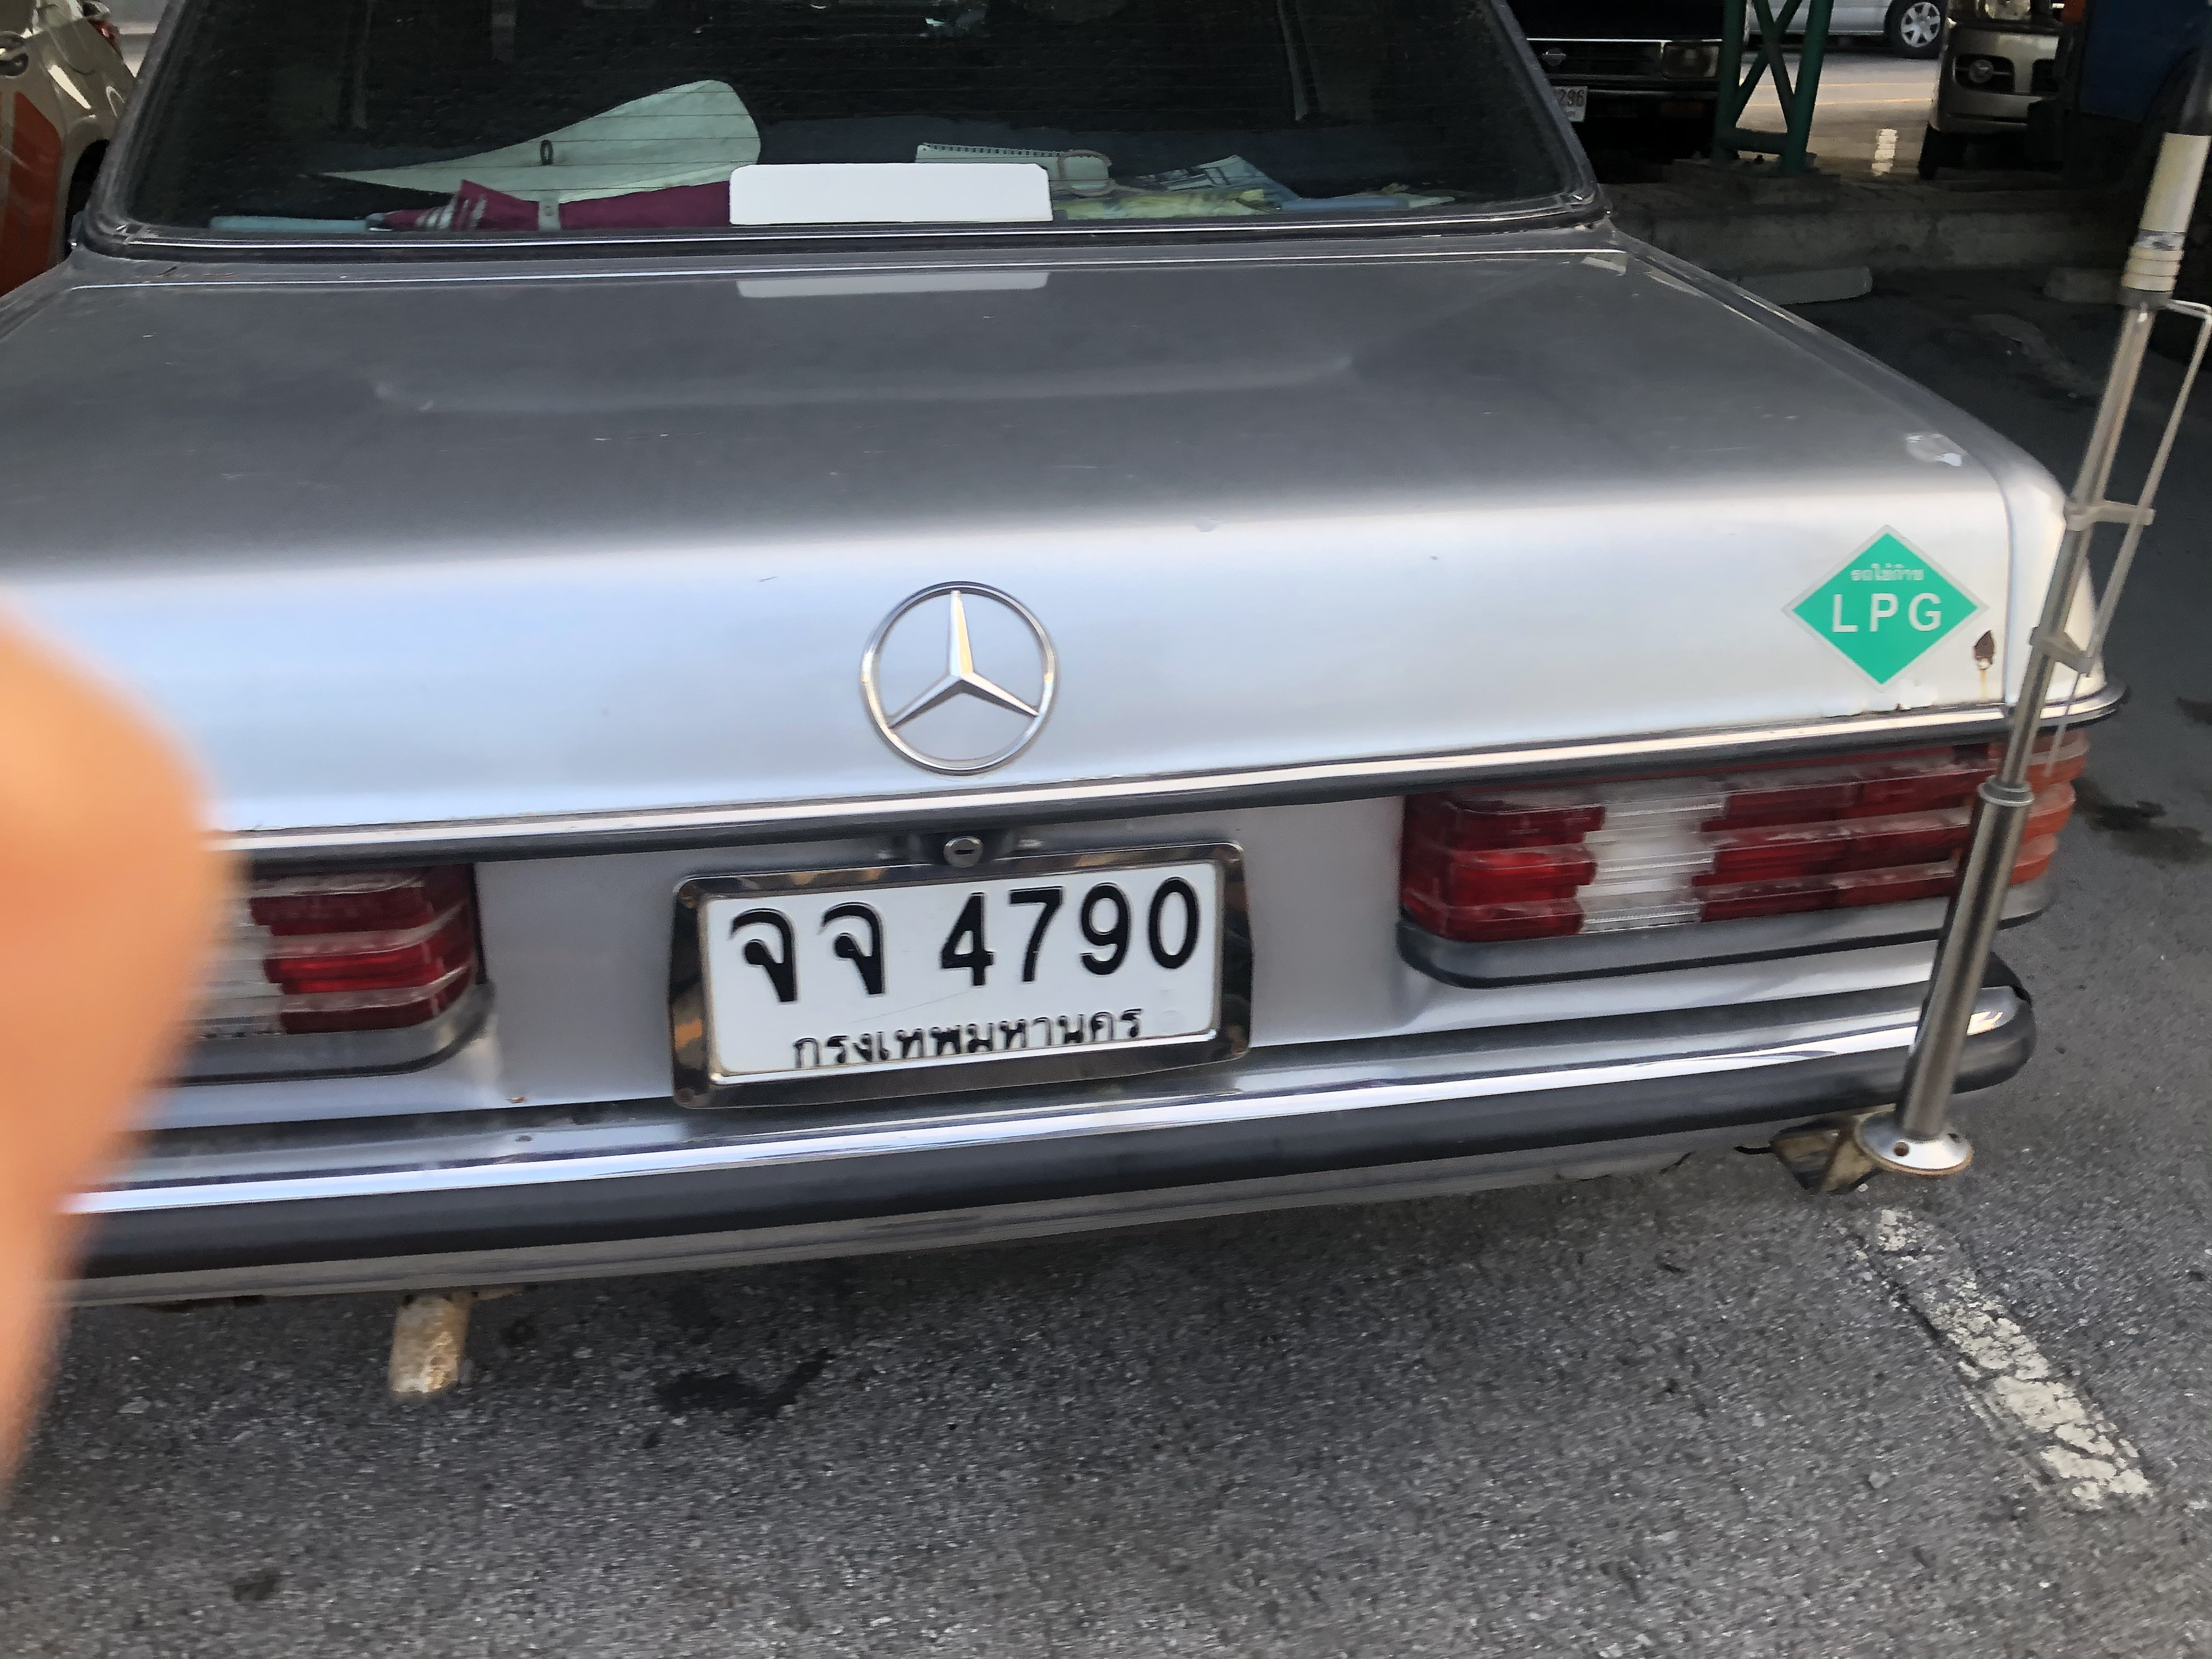in: (707, 864, 1216, 1063)
out: (667, 838, 1256, 1110)
